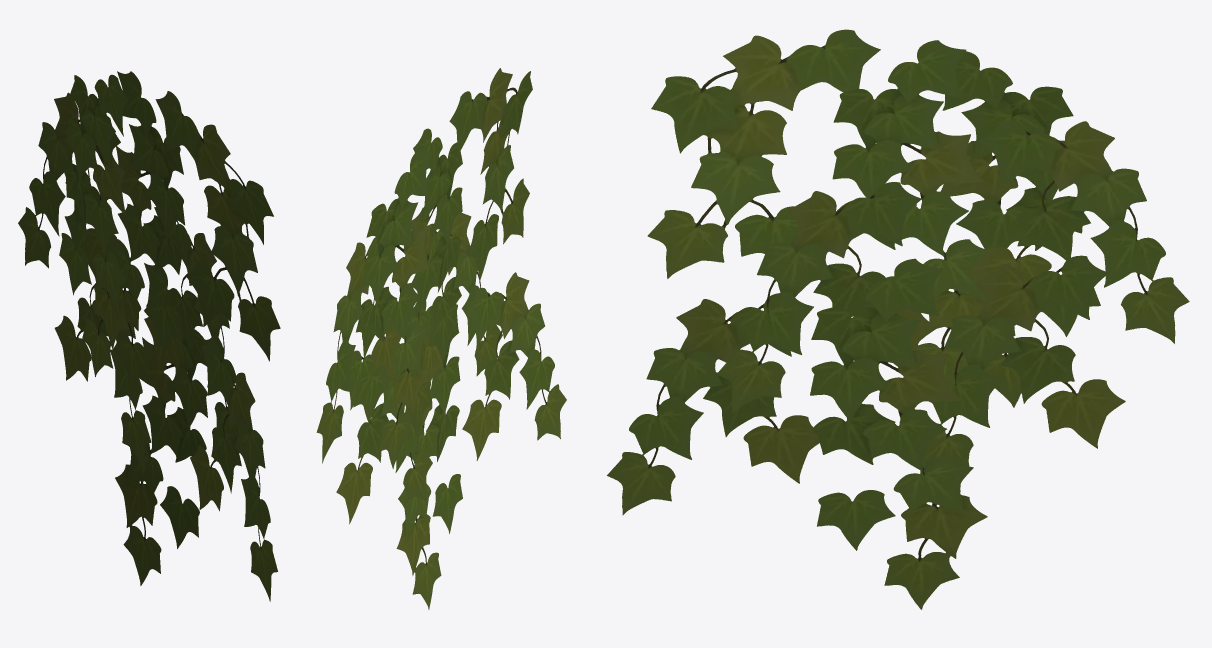
3 views of the same model, side by side, from view 1: azimuth 30°, elevation 25°; view 2: azimuth 150°, elevation 25°; view 3: azimuth 270°, elevation 25° (orthographic). The views are drawn at different scales.
Visible parts, largest first — view 1: body0_model0_lod0_mesh0; view 2: body0_model0_lod0_mesh0; view 3: body0_model0_lod0_mesh0.
Boxes of the visible parts, <box> form: body0_model0_lod0_mesh0: <box>18,71,280,601</box>; body0_model0_lod0_mesh0: <box>316,68,566,609</box>; body0_model0_lod0_mesh0: <box>607,29,1189,609</box>.
Bounding box in the file's own units: 3.28 × 62 × 54.2.
Materials: 1 (1 with a texture image).
